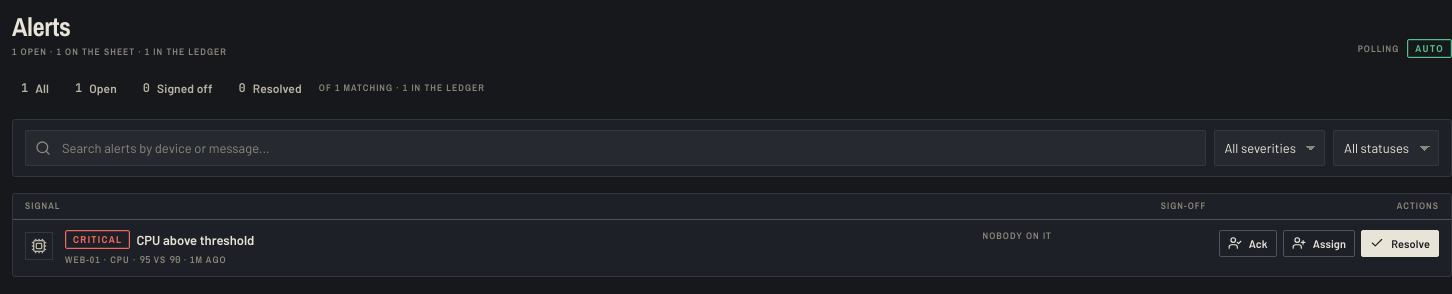
Scenario: Alerts page › assigns an alert to a user
Click the button "Assign". click: point(1319, 243)
box: [1283,230,1355,257]
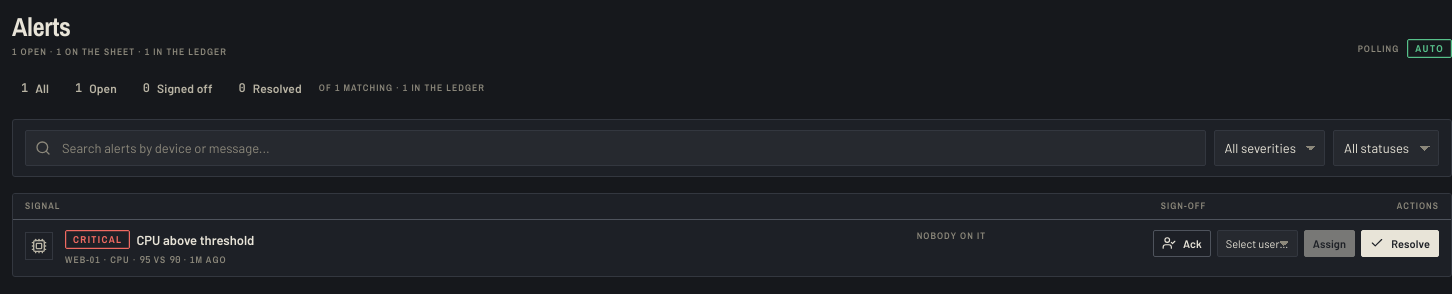
Select "alice" in the dropdown named "assign to user". click: point(1257, 243)
box: [1217,230,1298,257]
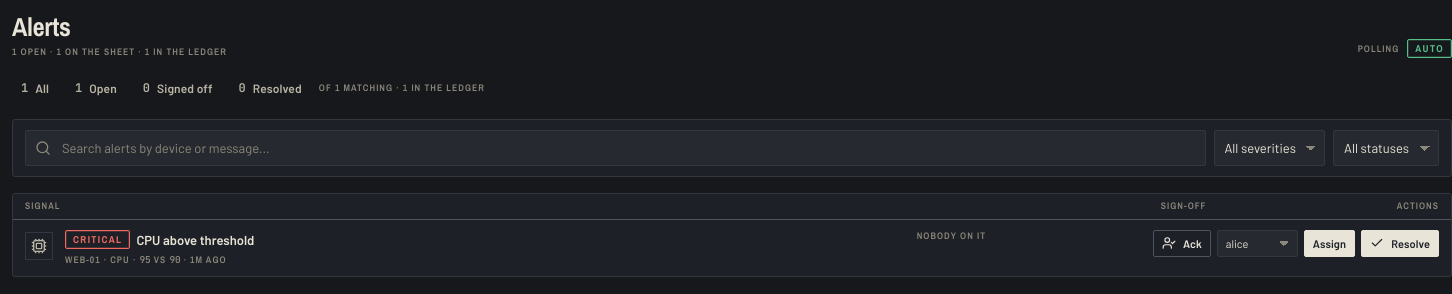
Click the button "Assign". click: point(1330, 243)
box: [1304,230,1355,257]
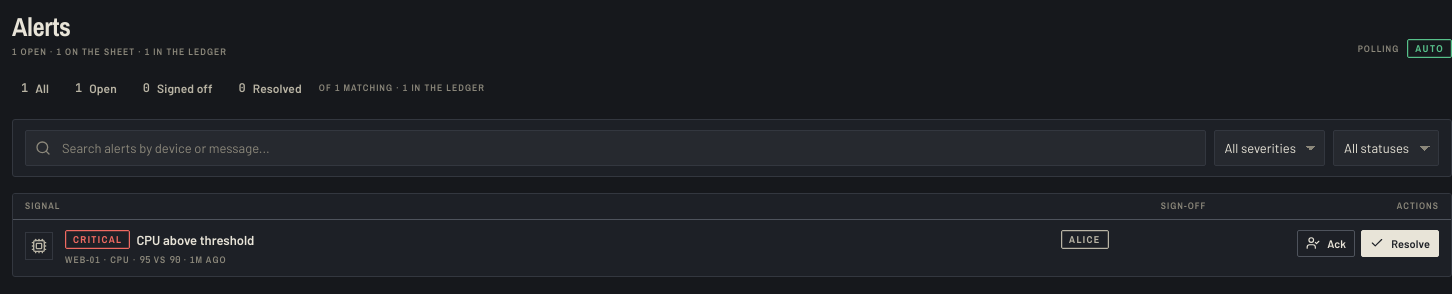
Expected: the text "alice" is shown, [1061,230,1109,249]
